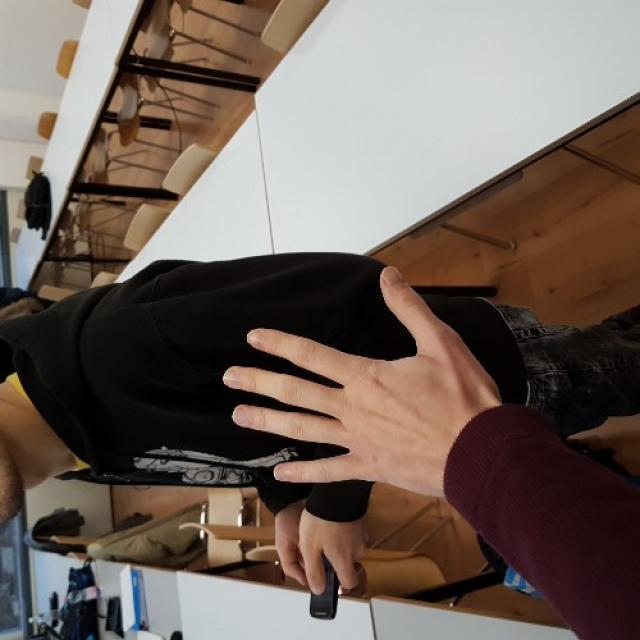paper: (227, 266, 456, 498)
